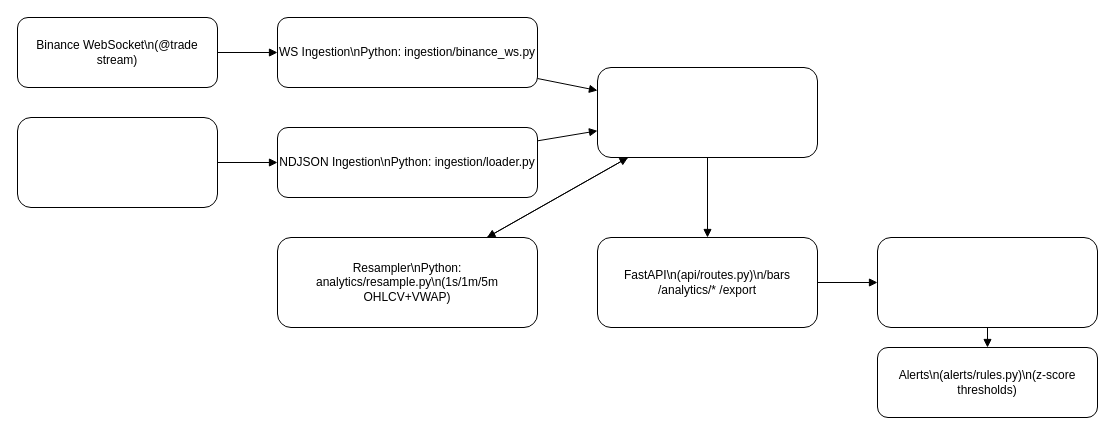
Image size: 1115x435. Some labels were removed from this diagram. The centre of each missing label's shape, as x and y in pixels:
"HTML Collector\n(index.html)\n(Optional: writes NDJSON)" goes at [117,162].
"SQLite Storage\n(ticks, bars, states)" goes at [707,112].
"Streamlit UI\n(frontend/dashboard.py)\nPlotly charts + alerts" goes at [987,282].
